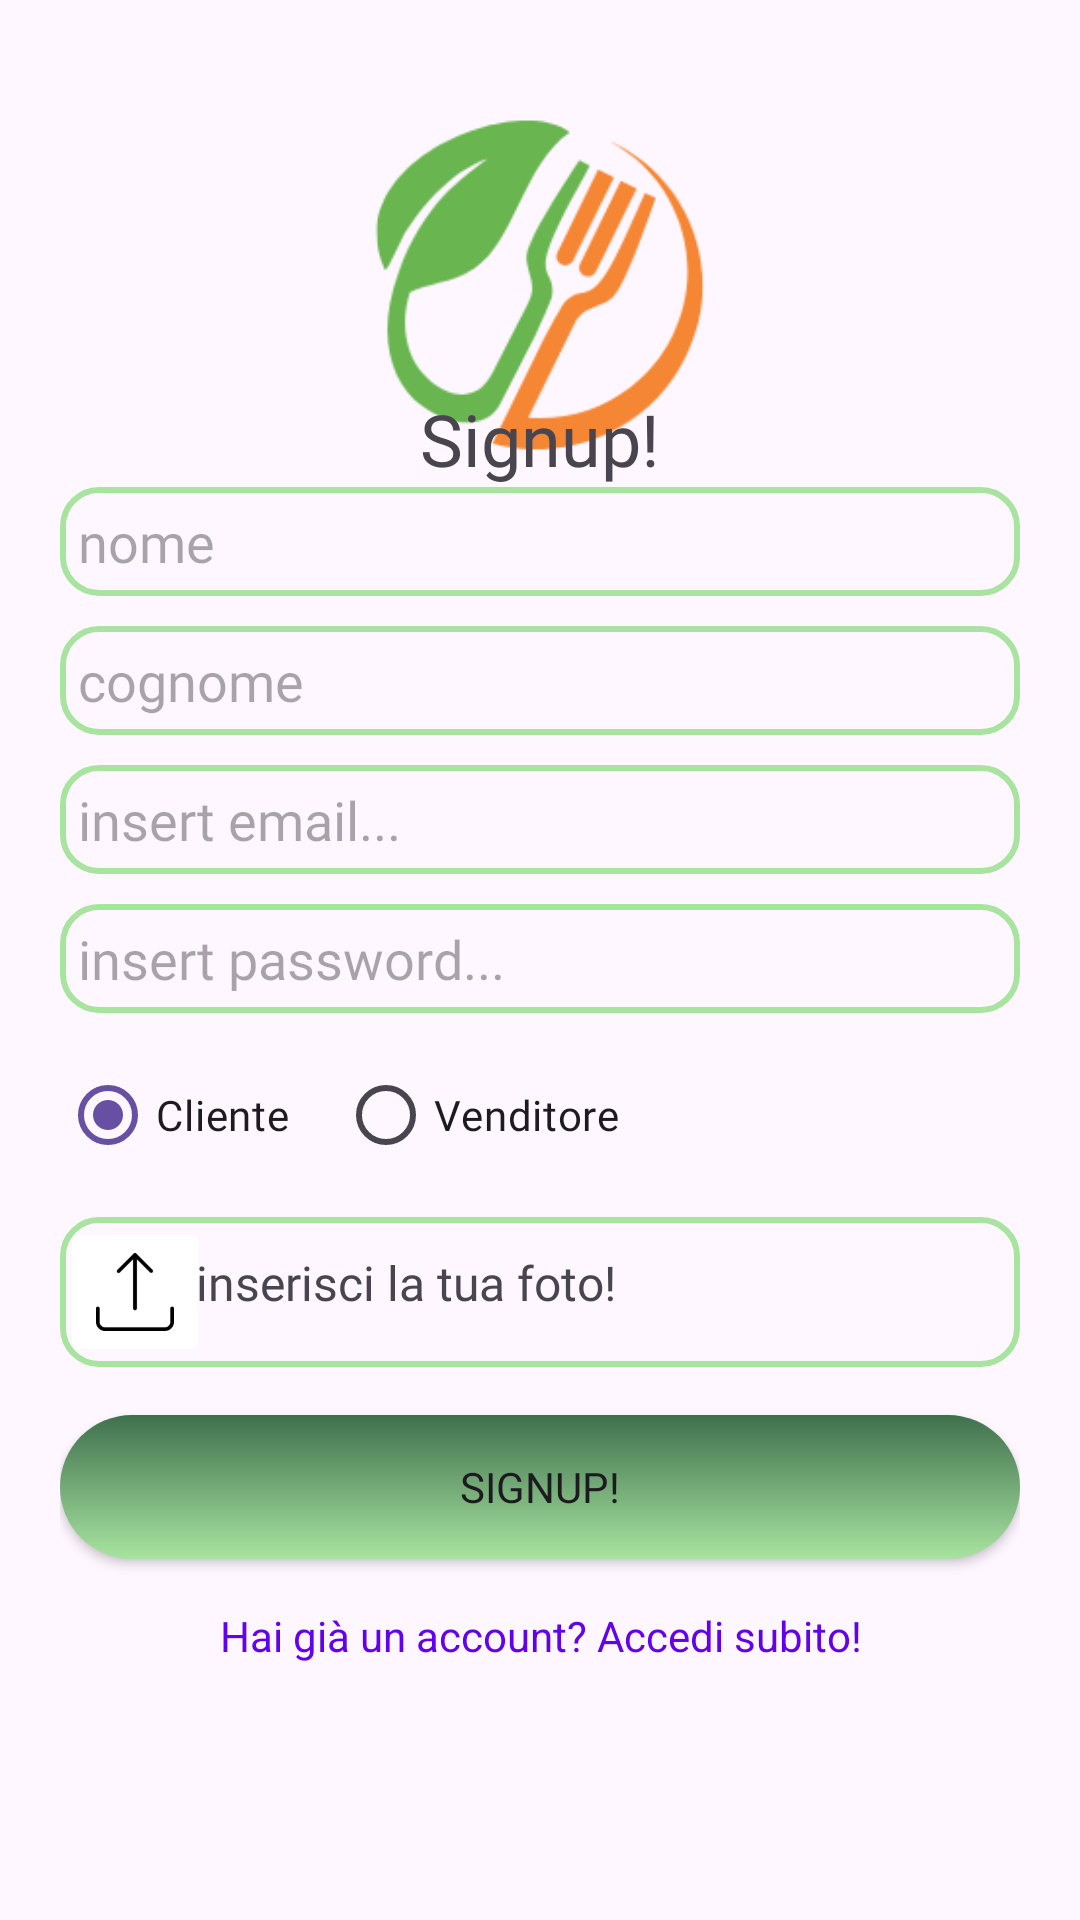

Screen size 1080px×1920px. Icon name, then its center in pixels as (x,y):
icona: (515,292)
upload: (135,1292)
